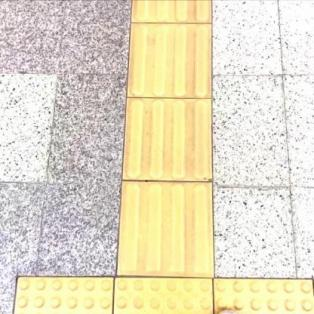Podoctatil: (117, 0, 216, 276)
